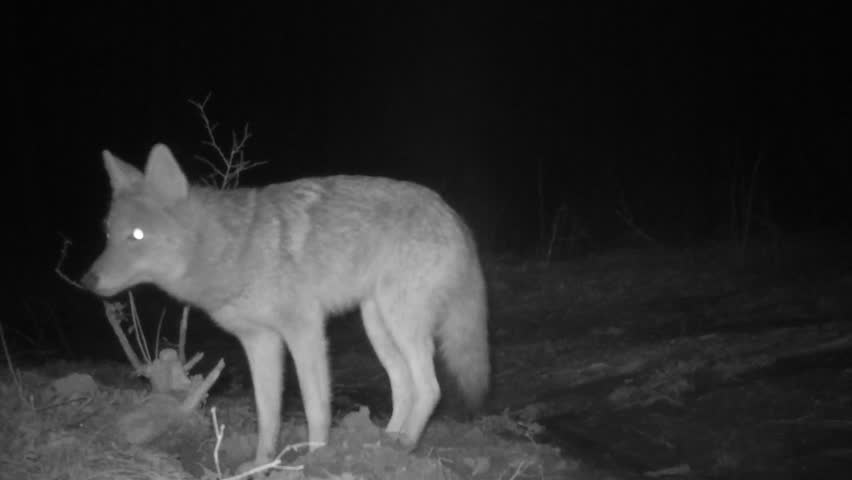coyote: (43, 95, 517, 477)
